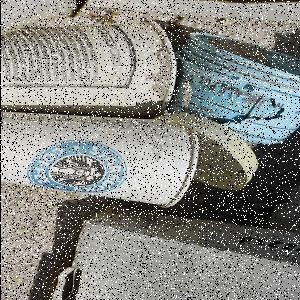Cup: (2, 113, 199, 210), (2, 19, 178, 119)
